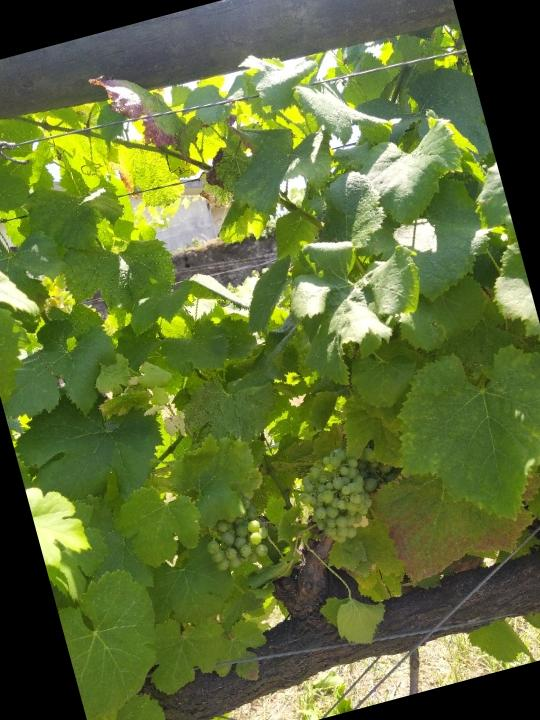grape: (285, 431, 410, 555), (196, 502, 281, 581)
